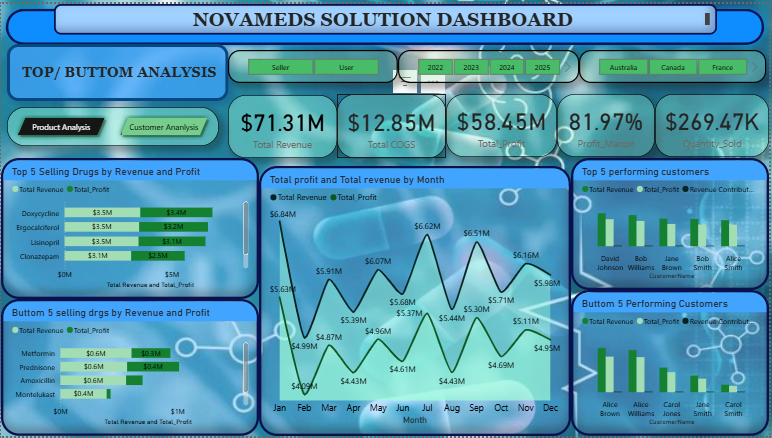

What the dashboard file says about the page in this screenshot:
{"tool":"powerbi","page":{"name":"Product Analysis","canvas":[1280,720],"ordinal":0},"visuals":[{"type":"card","fields":{"Values":["CALCULATIONS.Total Revenue"]},"box":[378.3,151.7,181.7,105],"z":0},{"type":"card","fields":{"Values":["CALCULATIONS.Total COGS"]},"box":[560,150,181.7,106.7],"z":1000},{"type":"card","fields":{"Values":["CALCULATIONS.Total_Profit"]},"box":[741.7,150,185,105],"z":2000},{"type":"card","fields":{"Values":["CALCULATIONS.Profit_Margin"]},"box":[926.7,150,163.3,105],"z":3000},{"type":"card","fields":{"Values":["CALCULATIONS.Quantity_Sold"]},"box":[1090,150,190,105],"z":4000},{"type":"shape","box":[0,0,1280,76.2],"z":5000},{"type":"textbox","box":[87.5,0,1105,51.2],"z":6000},{"type":"clusteredColumnChart","title":"Top 5 performing customers","fields":{"Category":["CustomerTable (1).CustomerName"],"Y":["CALCULATIONS.Total Revenue","CALCULATIONS.Total_Profit","CALCULATIONS.Revenue Contribution %"]},"box":[950,256.7,330,220],"z":7000},{"type":"textbox","box":[10,66.2,368.8,95],"z":8000},{"type":"lineChart","title":"Total profit and Total revenue by Month","fields":{"Y":["CALCULATIONS.Total Revenue","CALCULATIONS.Total_Profit"],"Category":["DATE.Month"]},"box":[430,270,520,450],"z":9000},{"type":"barChart","title":"Buttom 5 selling drgs by Revenue and Profit","fields":{"Category":["DrugTable.DrugName"],"Y":["CALCULATIONS.Total Revenue","CALCULATIONS.Total_Profit"]},"box":[0,491.7,430,228.3],"z":10000},{"type":"barChart","fields":{"Category":["DrugTable.DrugName"],"Y":["CALCULATIONS.Total Revenue","CALCULATIONS.Total_Profit"]},"box":[0,256.7,430,235],"z":11000},{"type":"clusteredColumnChart","title":"Top 5 Performing Customers","fields":{"Y":["CALCULATIONS.Total Revenue","CALCULATIONS.Total_Profit","CALCULATIONS.Revenue Contribution %"],"Category":["CustomerTable (1).CustomerName"]},"box":[950,476.7,330,243.3],"z":12000},{"type":"slicer","fields":{"Values":["FactTable (1).BuyerType"]},"box":[403.3,76.7,283.3,55],"z":13000},{"type":"slicer","fields":{"Values":["DATE.Year"]},"box":[686.7,76.7,276.7,55],"z":14000},{"type":"slicer","fields":{"Values":["CustomerTable (1).Country"]},"box":[963.3,76.7,311.7,55],"z":15000},{"type":"pageNavigator","box":[10,171.7,353.3,65],"z":17000}]}

Visuals, with their boxes in screenshot pixels (x1, y1, x2, y2), scaled from the page's 1280x720 canvas onto the 772x438 screenshot:
card - CALCULATIONS.Total Revenue: bbox=(228, 92, 338, 156)
card - CALCULATIONS.Total COGS: bbox=(338, 91, 447, 156)
card - CALCULATIONS.Total_Profit: bbox=(447, 91, 559, 155)
card - CALCULATIONS.Profit_Margin: bbox=(559, 91, 657, 155)
card - CALCULATIONS.Quantity_Sold: bbox=(657, 91, 771, 155)
shape: bbox=(0, 0, 771, 46)
textbox: bbox=(53, 0, 719, 31)
"Top 5 performing customers" clusteredColumnChart: bbox=(573, 156, 771, 290)
textbox: bbox=(6, 40, 228, 98)
"Total profit and Total revenue by Month" lineChart: bbox=(259, 164, 573, 437)
"Buttom 5 selling drgs by Revenue and Profit" barChart: bbox=(0, 299, 259, 437)
barChart - DrugTable.DrugName x CALCULATIONS.Total Revenue: bbox=(0, 156, 259, 299)
"Top 5 Performing Customers" clusteredColumnChart: bbox=(573, 290, 771, 437)
slicer - FactTable (1).BuyerType: bbox=(243, 47, 414, 80)
slicer - DATE.Year: bbox=(414, 47, 581, 80)
slicer - CustomerTable (1).Country: bbox=(581, 47, 769, 80)
pageNavigator: bbox=(6, 104, 219, 144)
